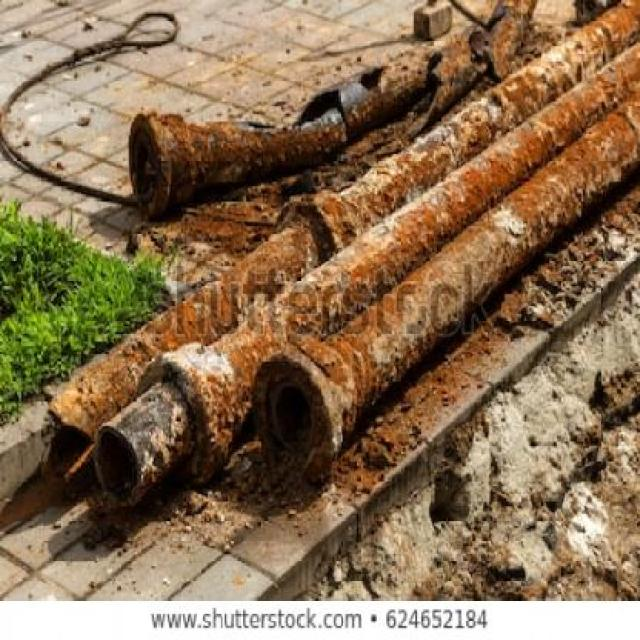corrosion: (54, 31, 640, 512)
